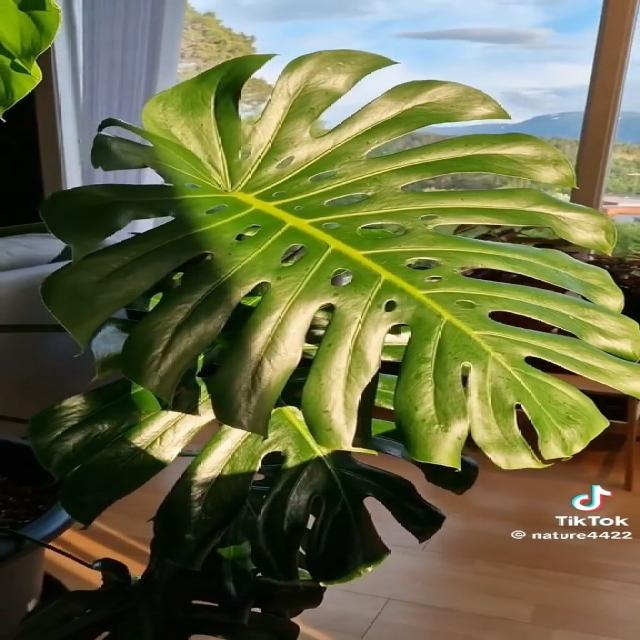roslina_zdrowa: (0, 49, 640, 640)
